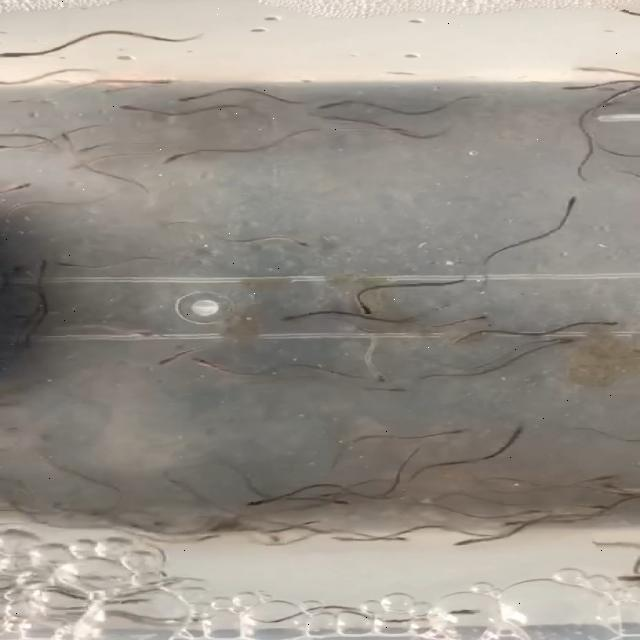active_glass_eel: (584, 468, 628, 484), (370, 364, 404, 384), (310, 114, 346, 131), (52, 258, 94, 272), (554, 85, 598, 96), (250, 492, 274, 512), (0, 45, 26, 63), (353, 302, 382, 318), (541, 334, 579, 346), (151, 73, 183, 87), (312, 96, 340, 112), (16, 175, 44, 191), (293, 232, 315, 252), (66, 162, 96, 176), (150, 354, 180, 368), (286, 308, 308, 326), (561, 191, 589, 205), (178, 89, 202, 105), (569, 64, 601, 76), (436, 424, 468, 436), (118, 100, 144, 114), (469, 310, 499, 322), (494, 520, 524, 532), (58, 128, 80, 144), (74, 145, 108, 155), (262, 534, 296, 544), (300, 517, 324, 531), (602, 316, 624, 331), (508, 418, 534, 430), (452, 536, 474, 550), (332, 496, 355, 508), (170, 149, 183, 169), (585, 504, 611, 514), (28, 260, 50, 270), (391, 534, 411, 544), (528, 508, 546, 518), (194, 352, 208, 364)
